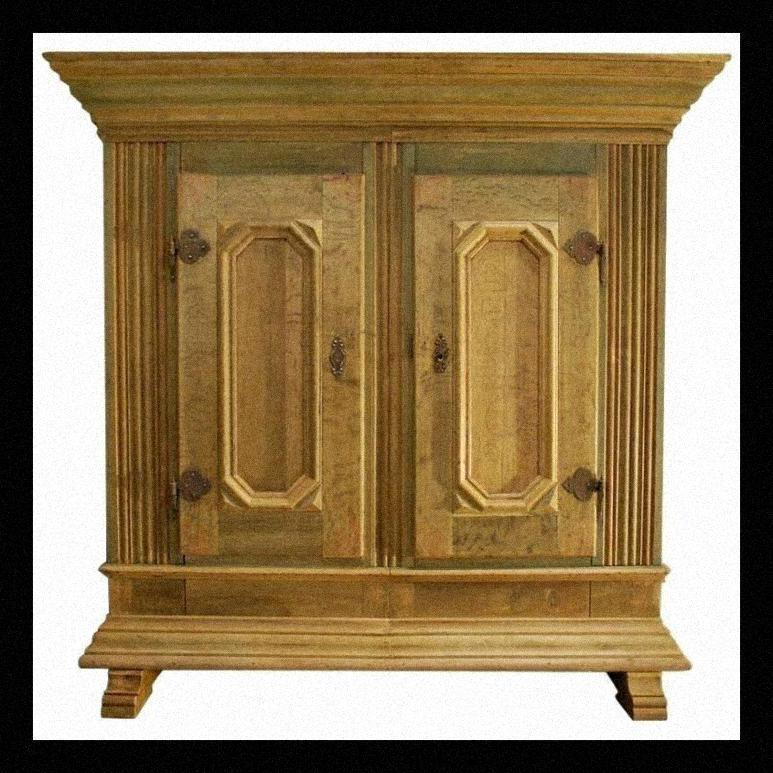Armario: (37, 41, 702, 722)
